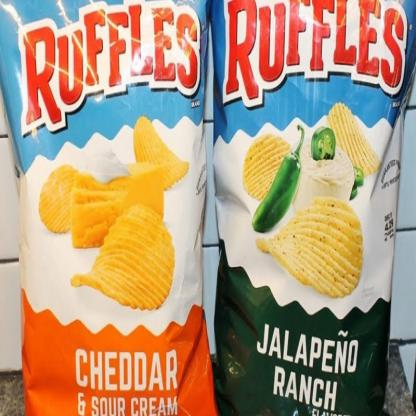potatochip: (0, 0, 220, 416), (204, 0, 415, 415)
